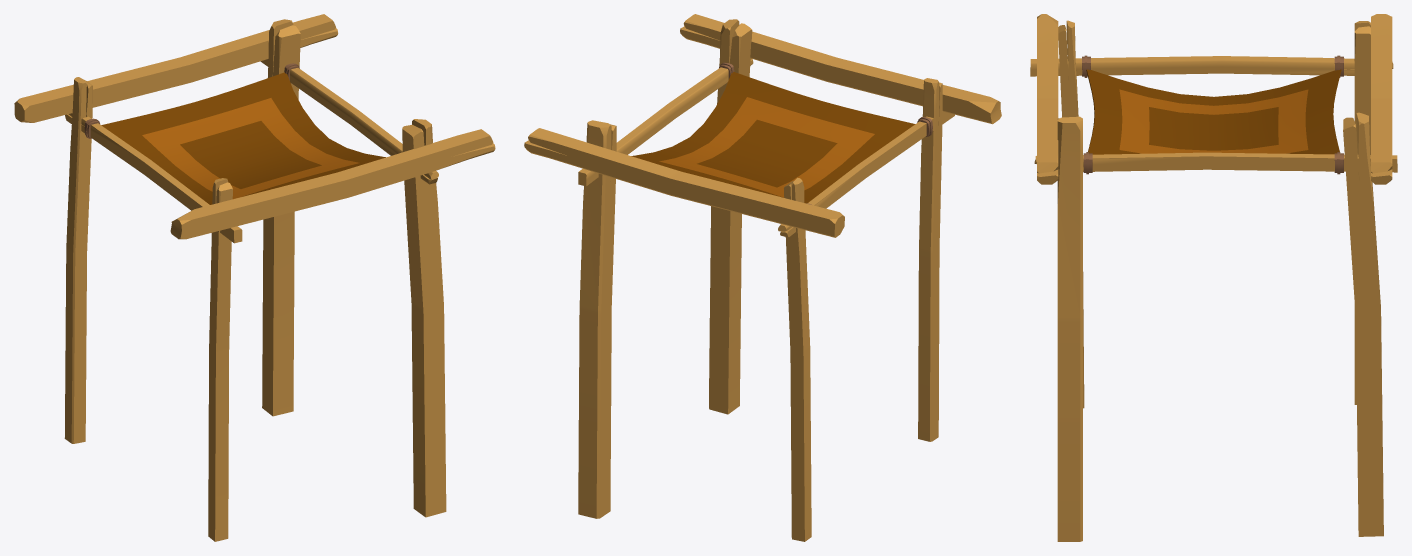
Rendered from Module_Awning_Small.fbx.
3 renders of one model, left to right at view 1: azimuth 30°, elevation 25°; view 2: azimuth 150°, elevation 25°; view 3: azimuth 270°, elevation 25°, orthographic. The views are drawn at different scales.
Visible parts, largest first — view 1: Module_Awning_Small_Geometry; view 2: Module_Awning_Small_Geometry; view 3: Module_Awning_Small_Geometry.
Part boxes in pixels (x1=…): Module_Awning_Small_Geometry: x1=14, y1=14, x2=495, y2=541; Module_Awning_Small_Geometry: x1=524, y1=14, x2=1001, y2=541; Module_Awning_Small_Geometry: x1=1030, y1=14, x2=1397, y2=541.
Size of the model in its own units: 4.15 by 4.9 by 3.93.
